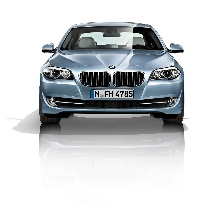no damage: (37, 21, 187, 128)
